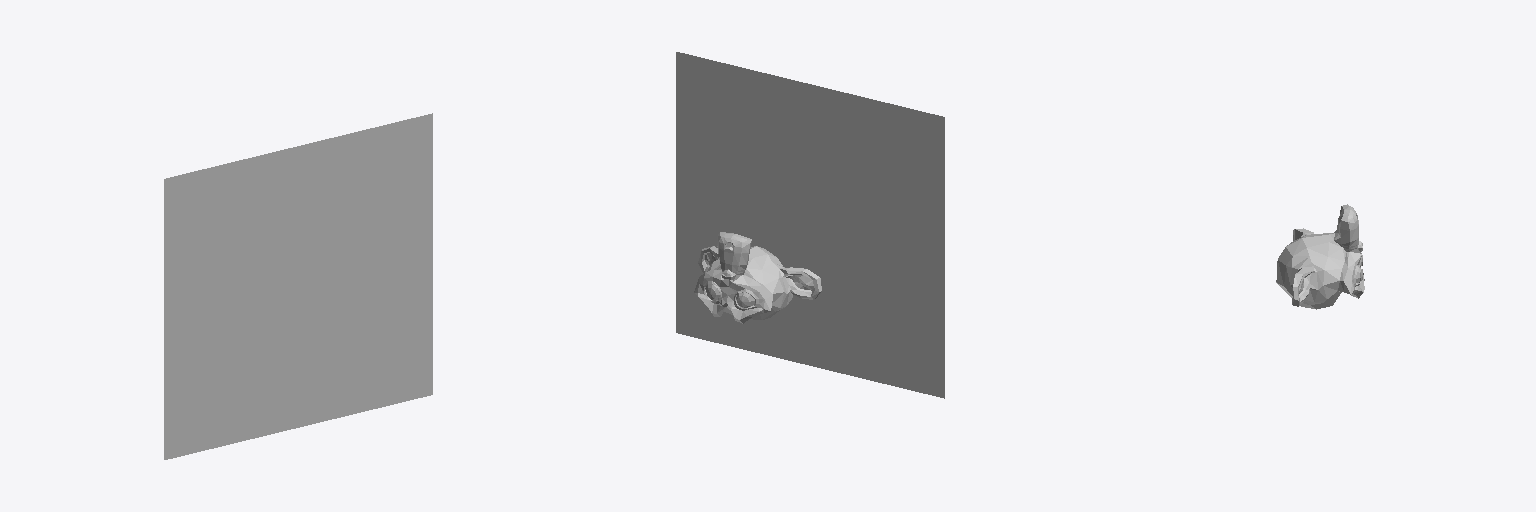
Rendered from suzanne2.obj.
The picture shows the model from 3 angles: view 1: azimuth 30°, elevation 25°; view 2: azimuth 150°, elevation 25°; view 3: azimuth 270°, elevation 25°; orthographic projection.
Visible parts, largest first — view 1: Suzanne; view 2: Suzanne; view 3: Suzanne.
Part boxes in pixels (left/top/right/bottom): Suzanne: left=164, top=113, right=432, bottom=459; Suzanne: left=676, top=52, right=944, bottom=398; Suzanne: left=1276, top=204, right=1364, bottom=309.
Size of the model in its own units: 600 by 600 by 327.